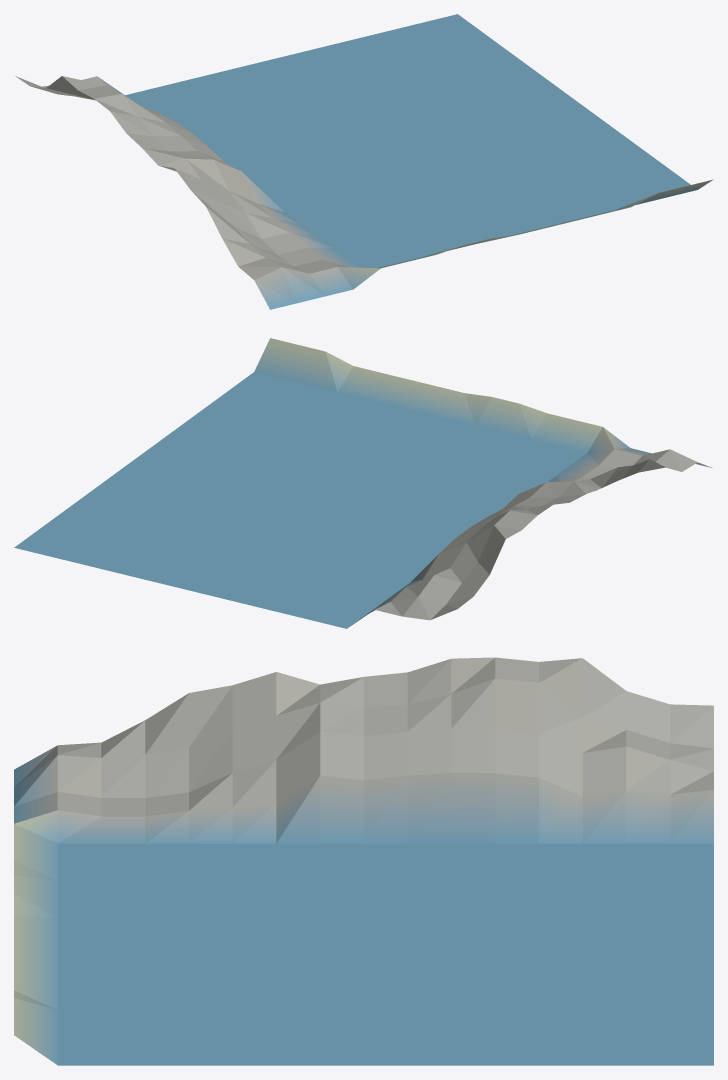
3 renders of one model, top to bottom at view 1: azimuth 30°, elevation 25°; view 2: azimuth 150°, elevation 25°; view 3: azimuth 270°, elevation 25°, orthographic. The views are drawn at different scales.
Size of the model in its own units: 32 by 5.66 by 32.
